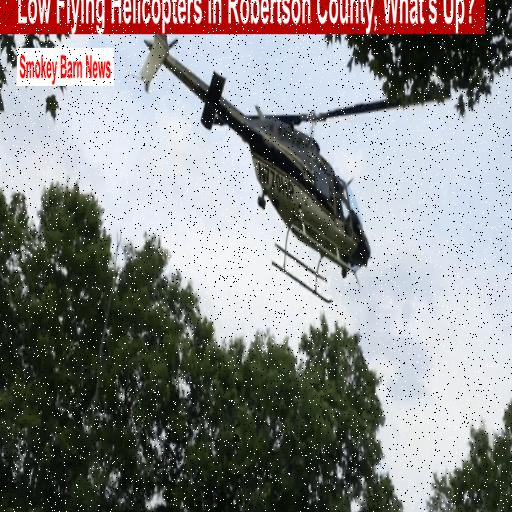helicopter: (143, 32, 455, 308)
